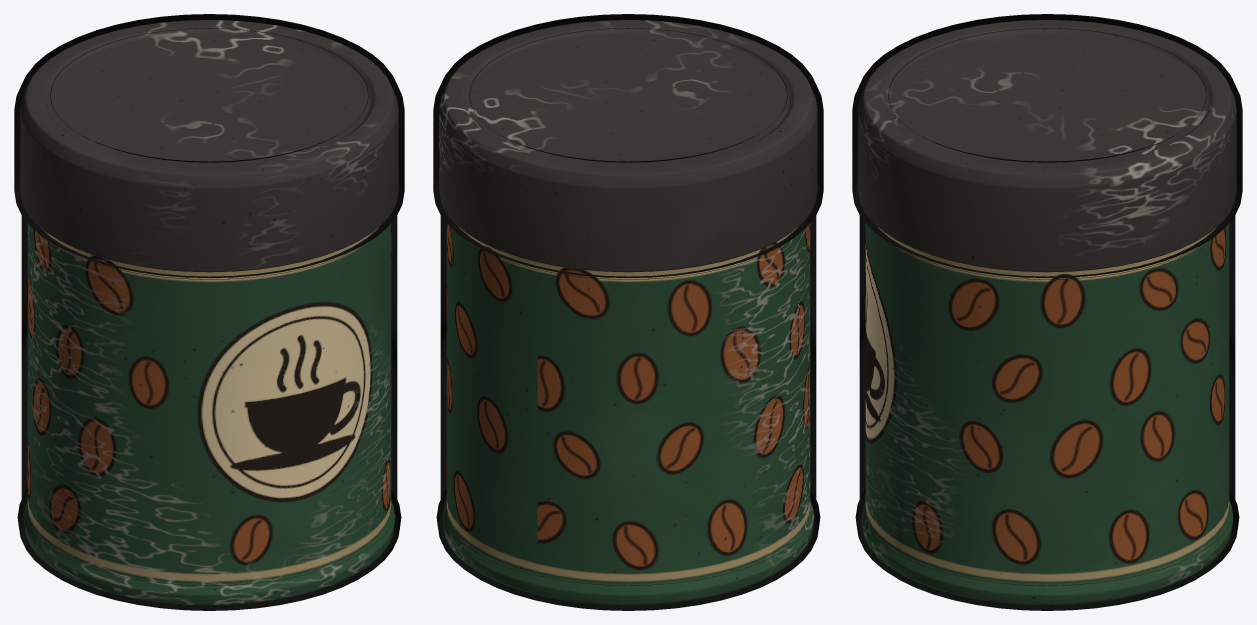
Rendered from CoffeeCan.fbx.
3 renders of one model, left to right at view 1: azimuth 30°, elevation 25°; view 2: azimuth 150°, elevation 25°; view 3: azimuth 270°, elevation 25°, orthographic.
Visible parts, largest first — view 1: CoffeeCan; view 2: CoffeeCan; view 3: CoffeeCan.
Boxes of the visible parts, x1=… form: CoffeeCan: x1=14, y1=14, x2=404, y2=610; CoffeeCan: x1=433, y1=14, x2=823, y2=610; CoffeeCan: x1=852, y1=14, x2=1242, y2=610.
Bounding box in the file's own units: 0.1126 × 0.1406 × 0.1126.
Materials: 1 (1 with a texture image).
